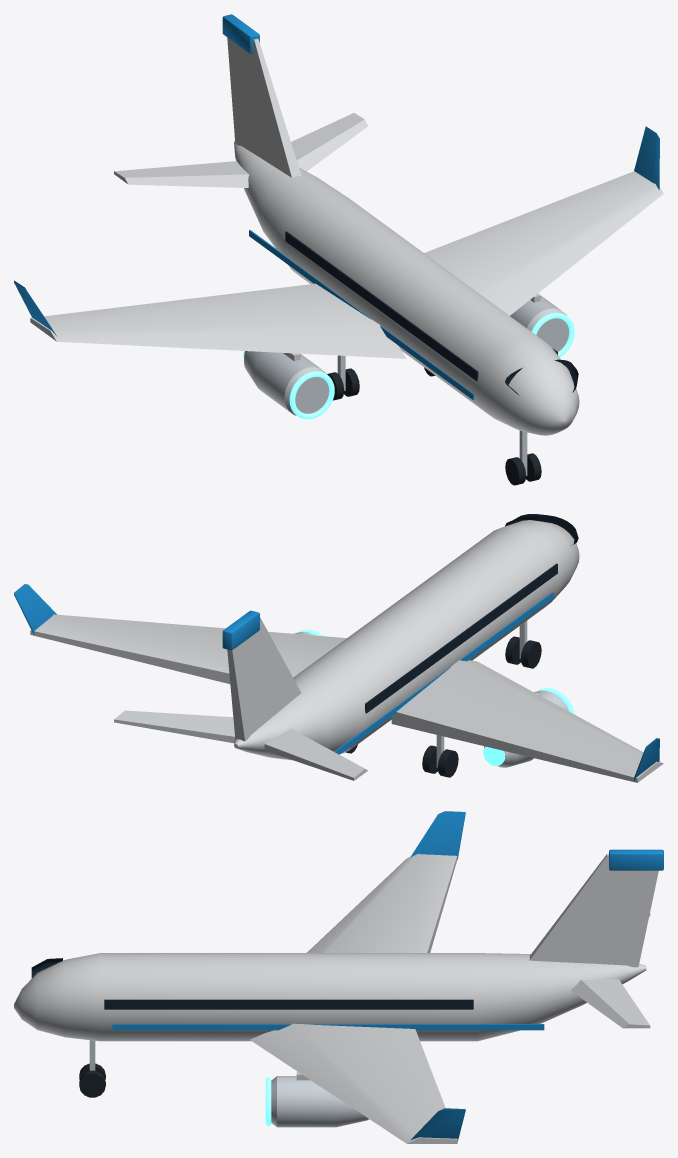
The model's file is airplane.glb.
3 renders of one model, top to bottom at view 1: azimuth 30°, elevation 25°; view 2: azimuth 150°, elevation 25°; view 3: azimuth 270°, elevation 25°, orthographic. The views are drawn at different scales.
Parts seen in each view (by area): view 1: loft; view 2: loft; view 3: loft.
Part boxes in pixels (x1,y1,x2,y2): loft: (14, 14, 663, 485); loft: (14, 514, 663, 782); loft: (14, 811, 663, 1143).
Size of the model in its own units: 17.9 by 6.77 by 16.55.
